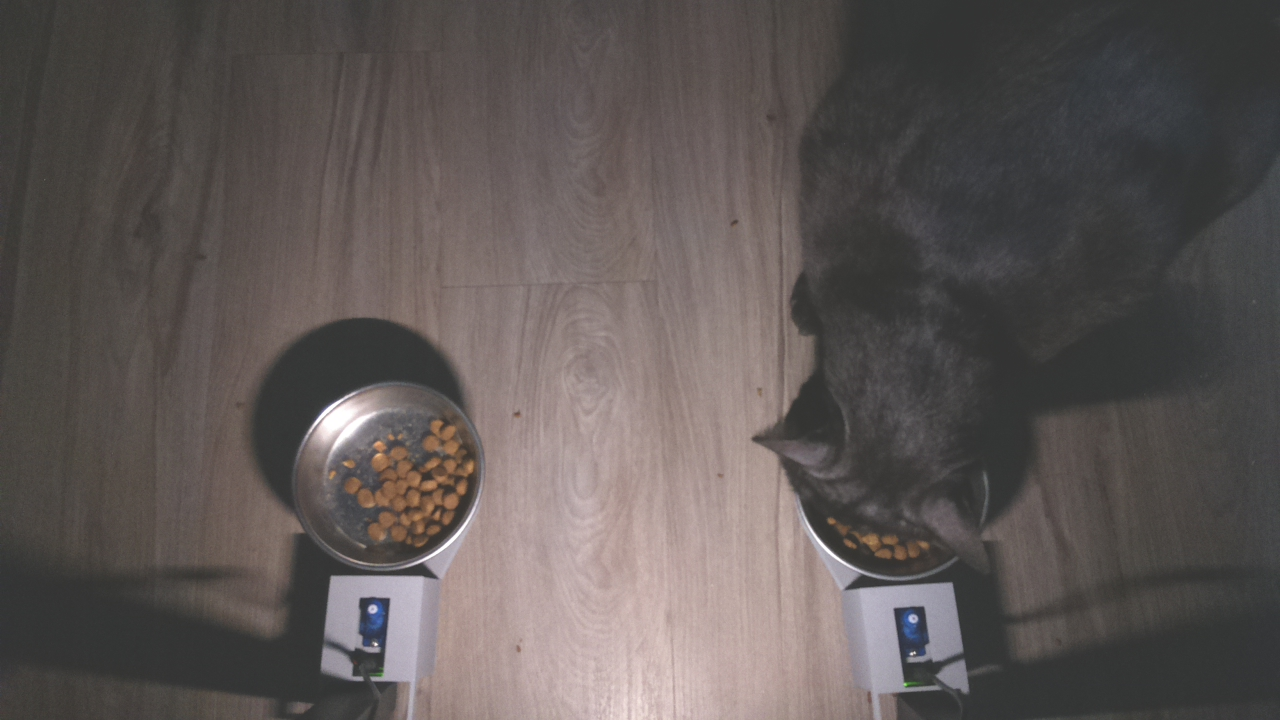open_bowl: (289, 375, 492, 573)
saki_eating: (744, 315, 1032, 585)
